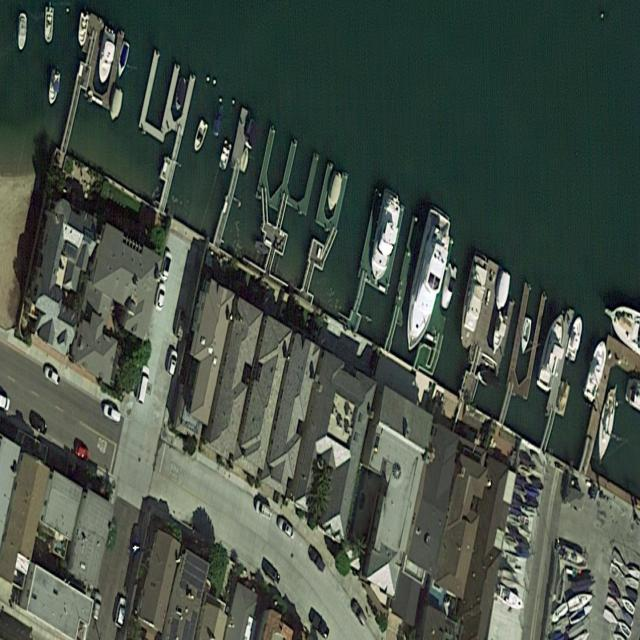ship: (399, 205, 456, 362), (455, 252, 489, 354), (369, 189, 402, 283), (536, 307, 569, 396), (594, 384, 620, 468), (584, 336, 610, 405), (95, 28, 117, 87), (557, 541, 591, 576), (565, 312, 585, 363), (439, 261, 458, 312), (497, 583, 526, 614), (491, 312, 508, 357), (475, 365, 502, 393), (494, 270, 511, 314), (326, 171, 343, 214), (567, 589, 595, 615), (553, 379, 571, 419), (172, 75, 189, 117), (518, 313, 534, 357), (191, 117, 209, 156), (568, 603, 594, 628), (46, 68, 61, 109), (116, 40, 131, 80), (109, 87, 124, 123), (211, 101, 225, 137), (217, 139, 233, 170), (246, 120, 261, 152), (77, 12, 89, 47), (44, 7, 54, 43), (18, 13, 27, 53), (238, 145, 250, 175), (605, 594, 622, 615), (602, 607, 619, 628), (617, 618, 633, 640), (620, 596, 636, 617), (624, 573, 640, 590)
small-vehicle: (134, 363, 152, 406), (262, 558, 282, 590), (307, 544, 327, 574), (159, 248, 174, 286), (276, 516, 296, 544), (350, 600, 368, 630), (128, 523, 143, 558), (153, 281, 168, 314), (114, 595, 128, 630), (29, 415, 49, 437), (255, 498, 274, 521), (102, 402, 121, 425), (44, 365, 61, 388), (166, 348, 179, 377), (74, 443, 91, 465), (90, 593, 103, 621), (106, 523, 118, 552)
